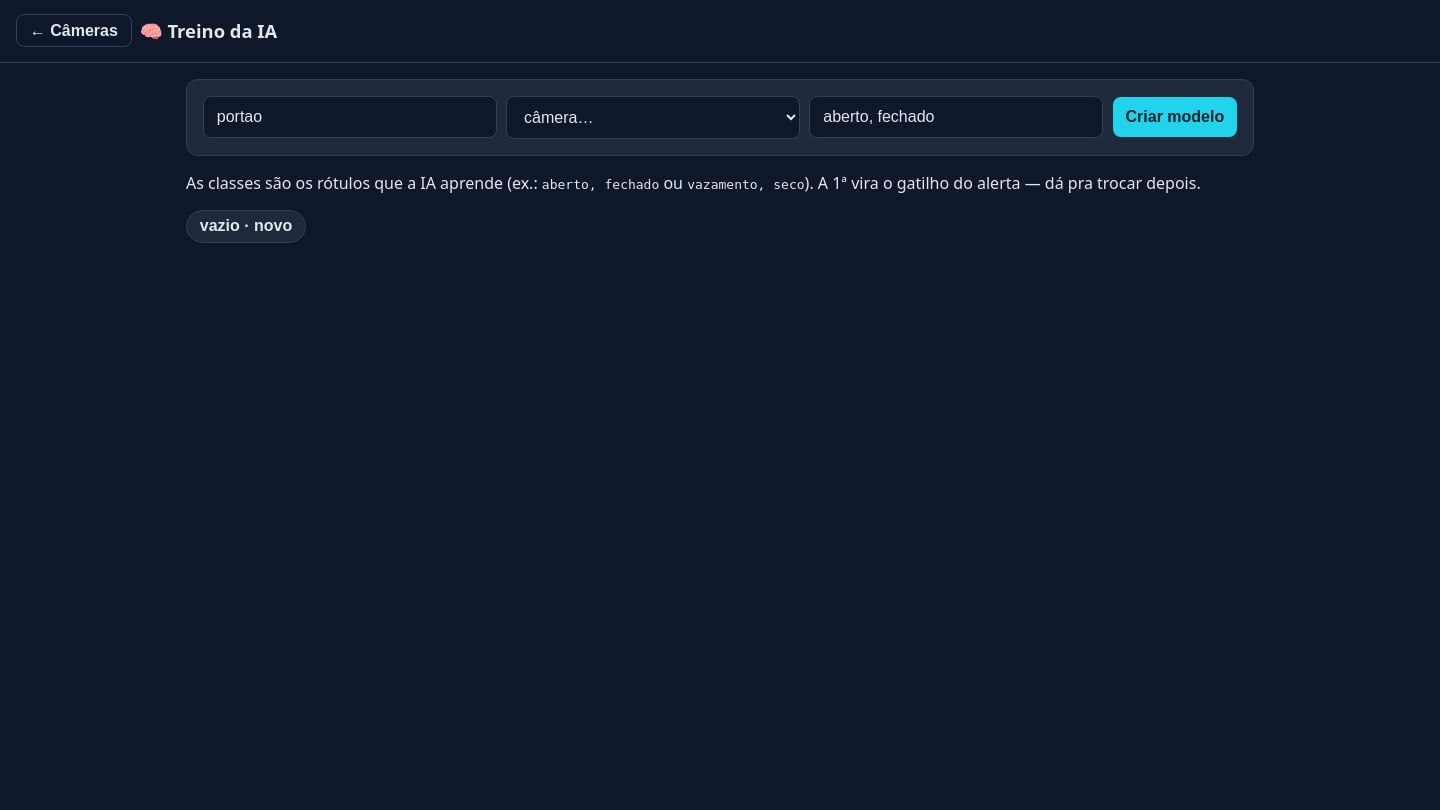
Test: Training › enables the live test without training when 2+ descriptions exist
Click the button "vazio · novo" at (246, 226), box x1=186 y1=210 x2=306 y2=243
(page scrolled)
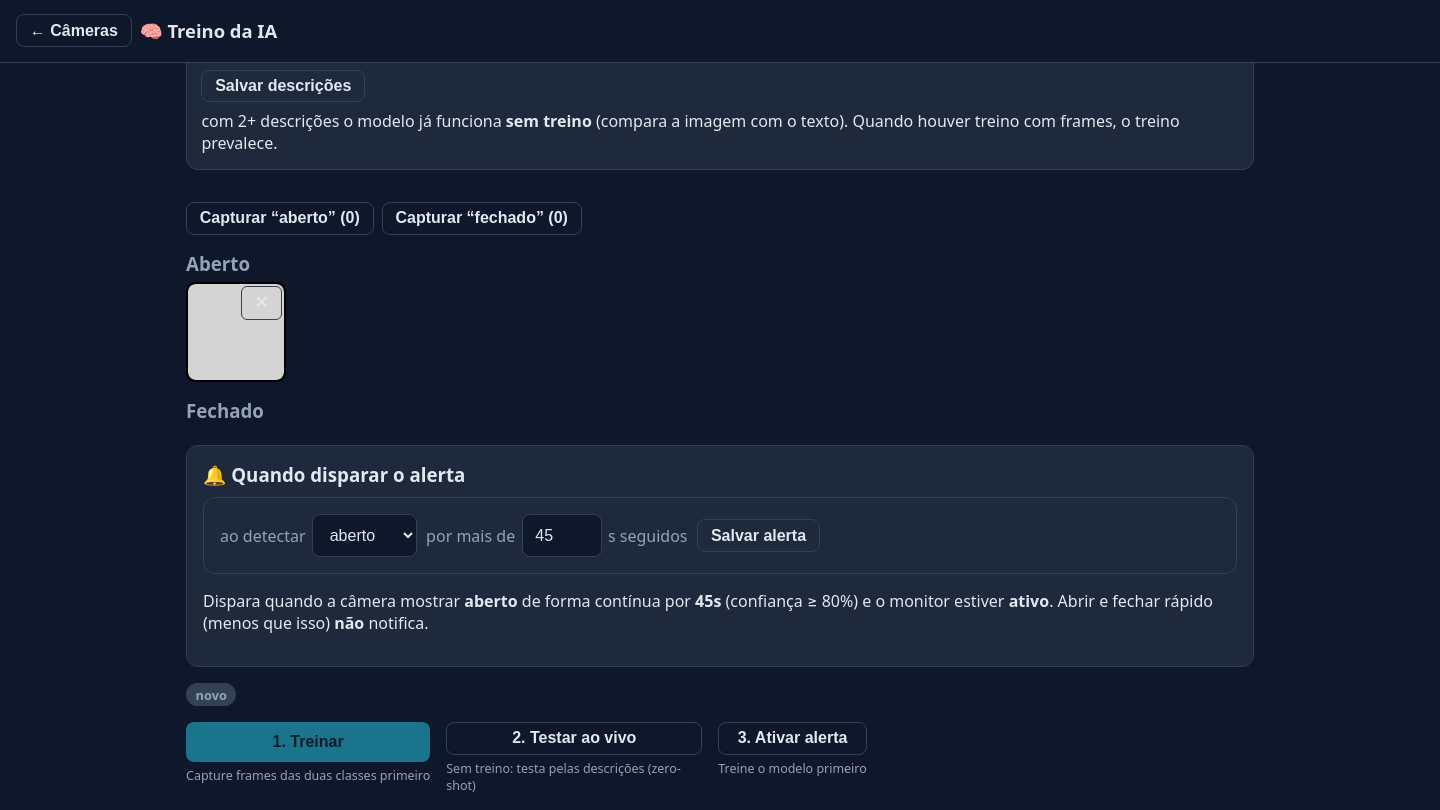
Expected: the button "2. Testar ao vivo" is enabled, x1=446 y1=722 x2=702 y2=755
Expected: the text "Sem treino: testa pelas descrições (zero-shot)" is shown, x1=446 y1=760 x2=702 y2=794
